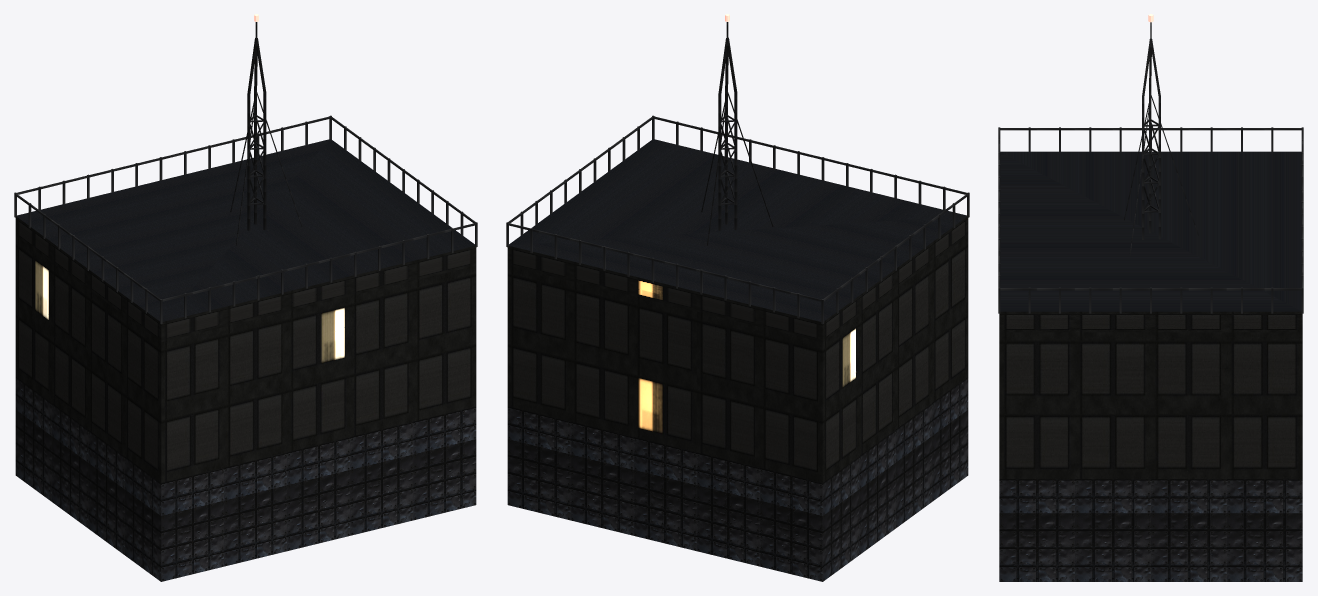
File: labs.glb
3 renders of one model, left to right at view 1: azimuth 30°, elevation 25°; view 2: azimuth 150°, elevation 25°; view 3: azimuth 270°, elevation 25°, orthographic. The views are drawn at different scales.
Parts seen in each view (by area): view 1: body, crown, ground; view 2: body, crown, ground; view 3: crown, body, ground.
Boxes of the visible parts, <box> form: body: <box>15,236,476,482</box>; crown: <box>14,14,477,342</box>; ground: <box>15,377,476,581</box>; body: <box>507,236,968,482</box>; crown: <box>506,14,969,342</box>; ground: <box>507,377,968,581</box>; crown: <box>998,14,1303,332</box>; body: <box>999,332,1302,478</box>; ground: <box>999,479,1302,581</box>.
Bounding box in the file's own units: 15.08 × 21.49 × 12.08.
6 materials, 5 textured.
